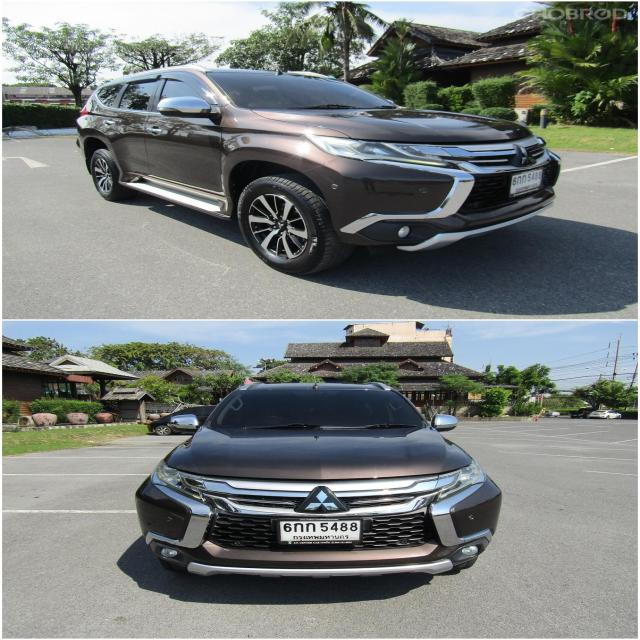license_plate: (278, 518, 366, 548), (504, 164, 551, 200)
